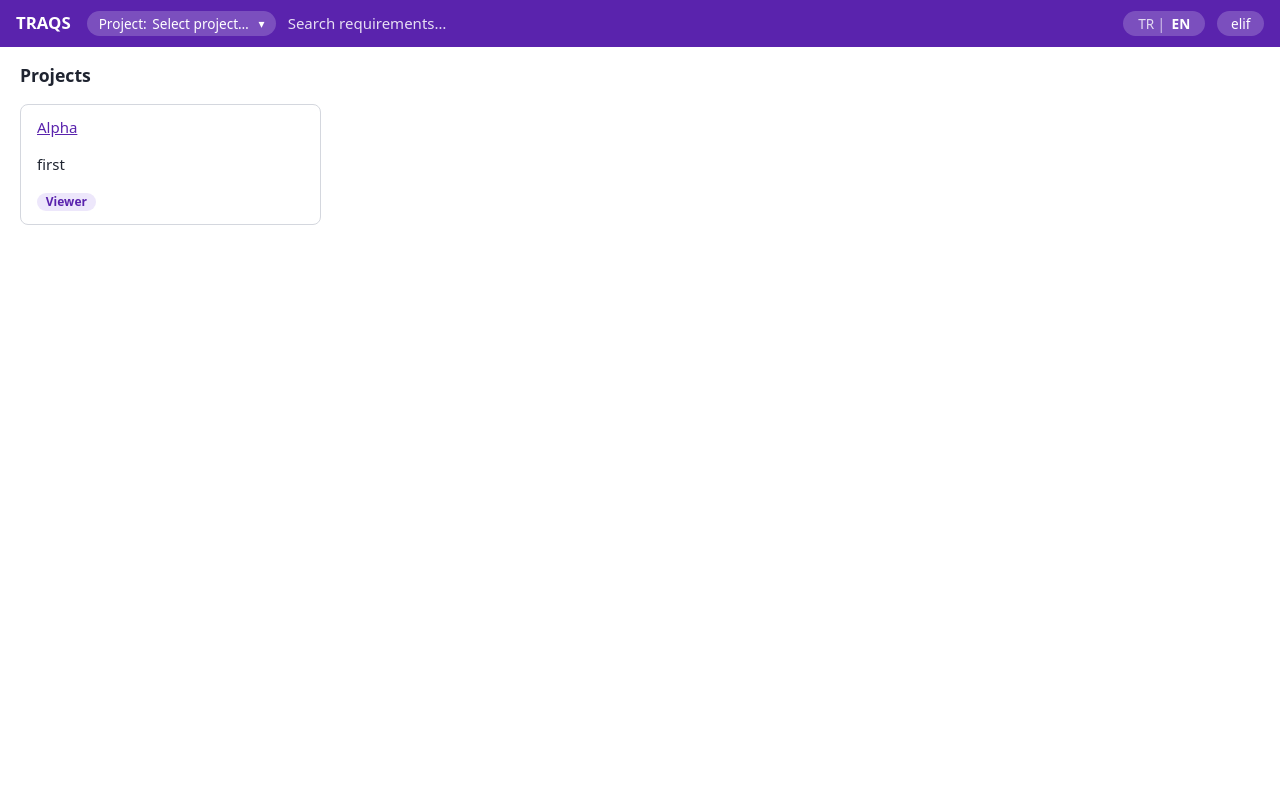
it: signed in › log out returns to the login screen
Click the button with aria-label "User menu" at (1241, 24), box [1218, 11, 1264, 36]
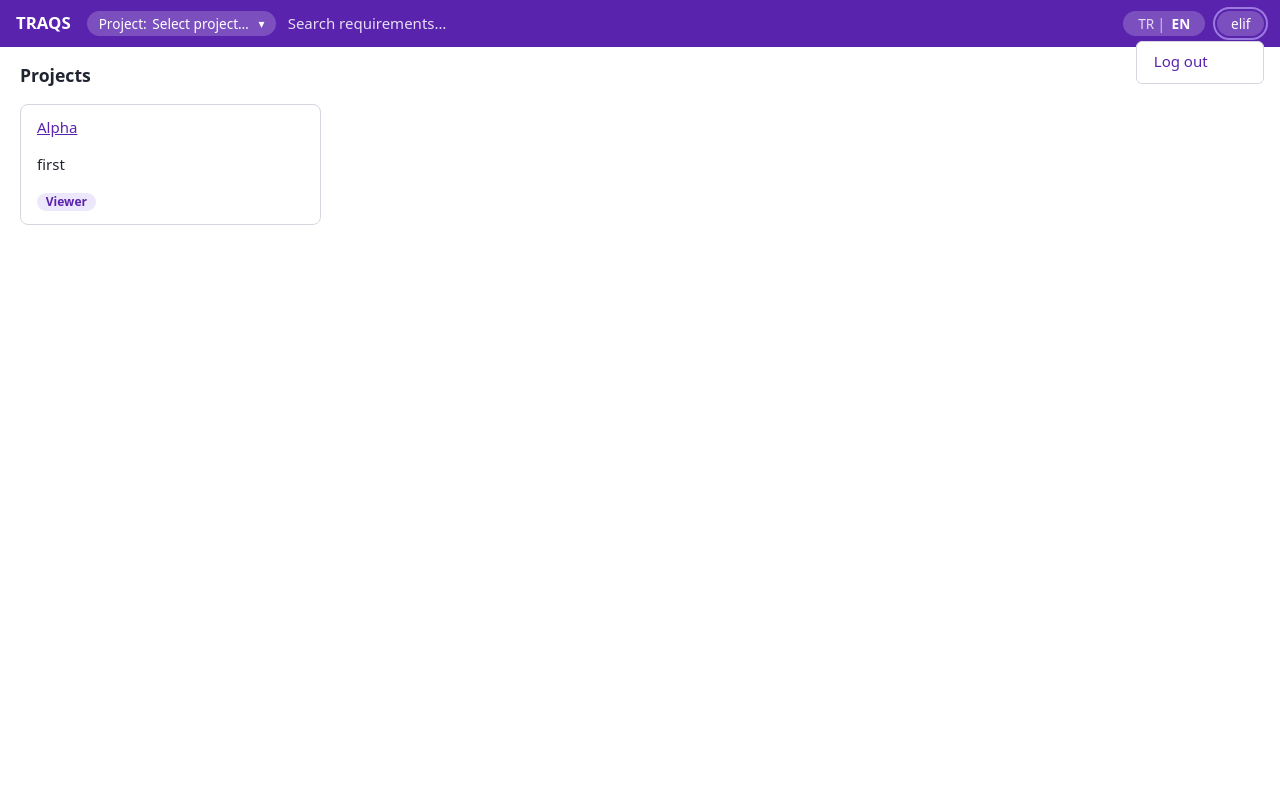
Click the menu item "Log out" at (1200, 62), box [1141, 46, 1259, 79]
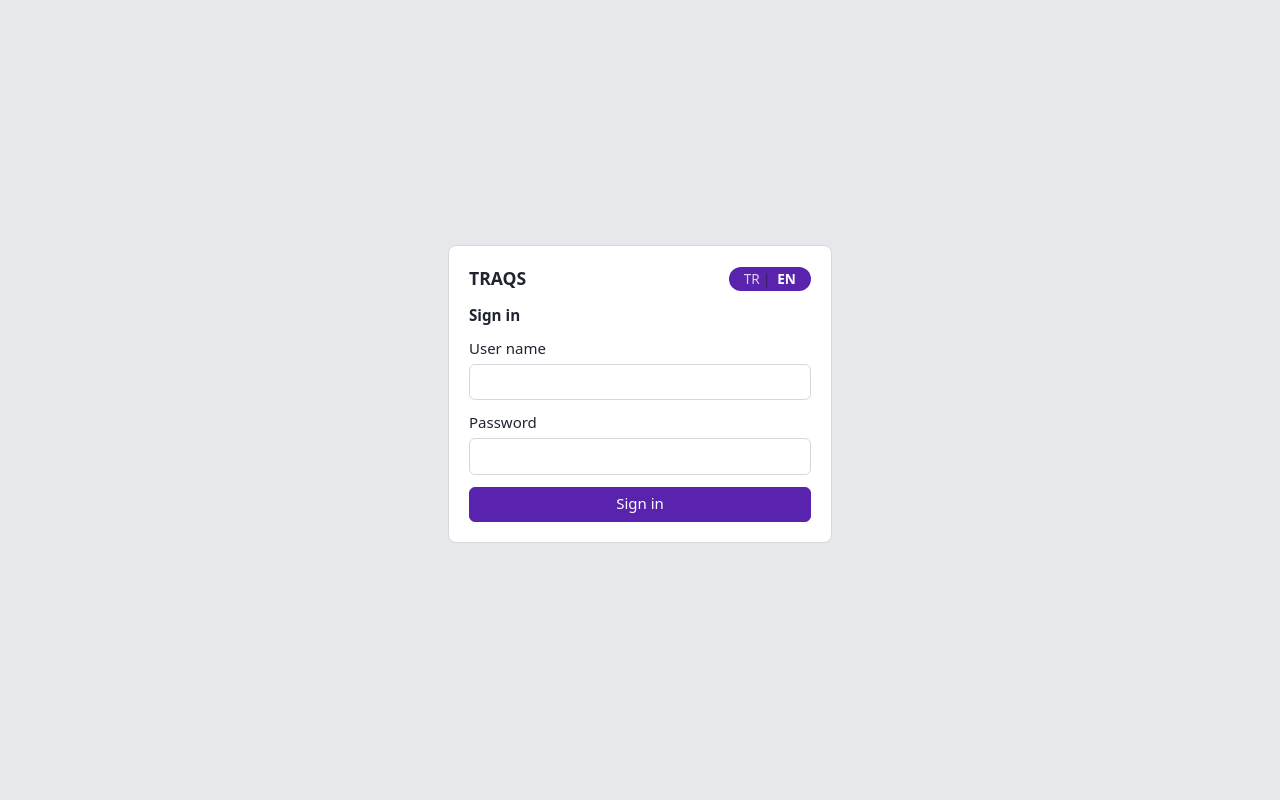
Result: the button "Sign in" is shown at [469, 487, 811, 522]
